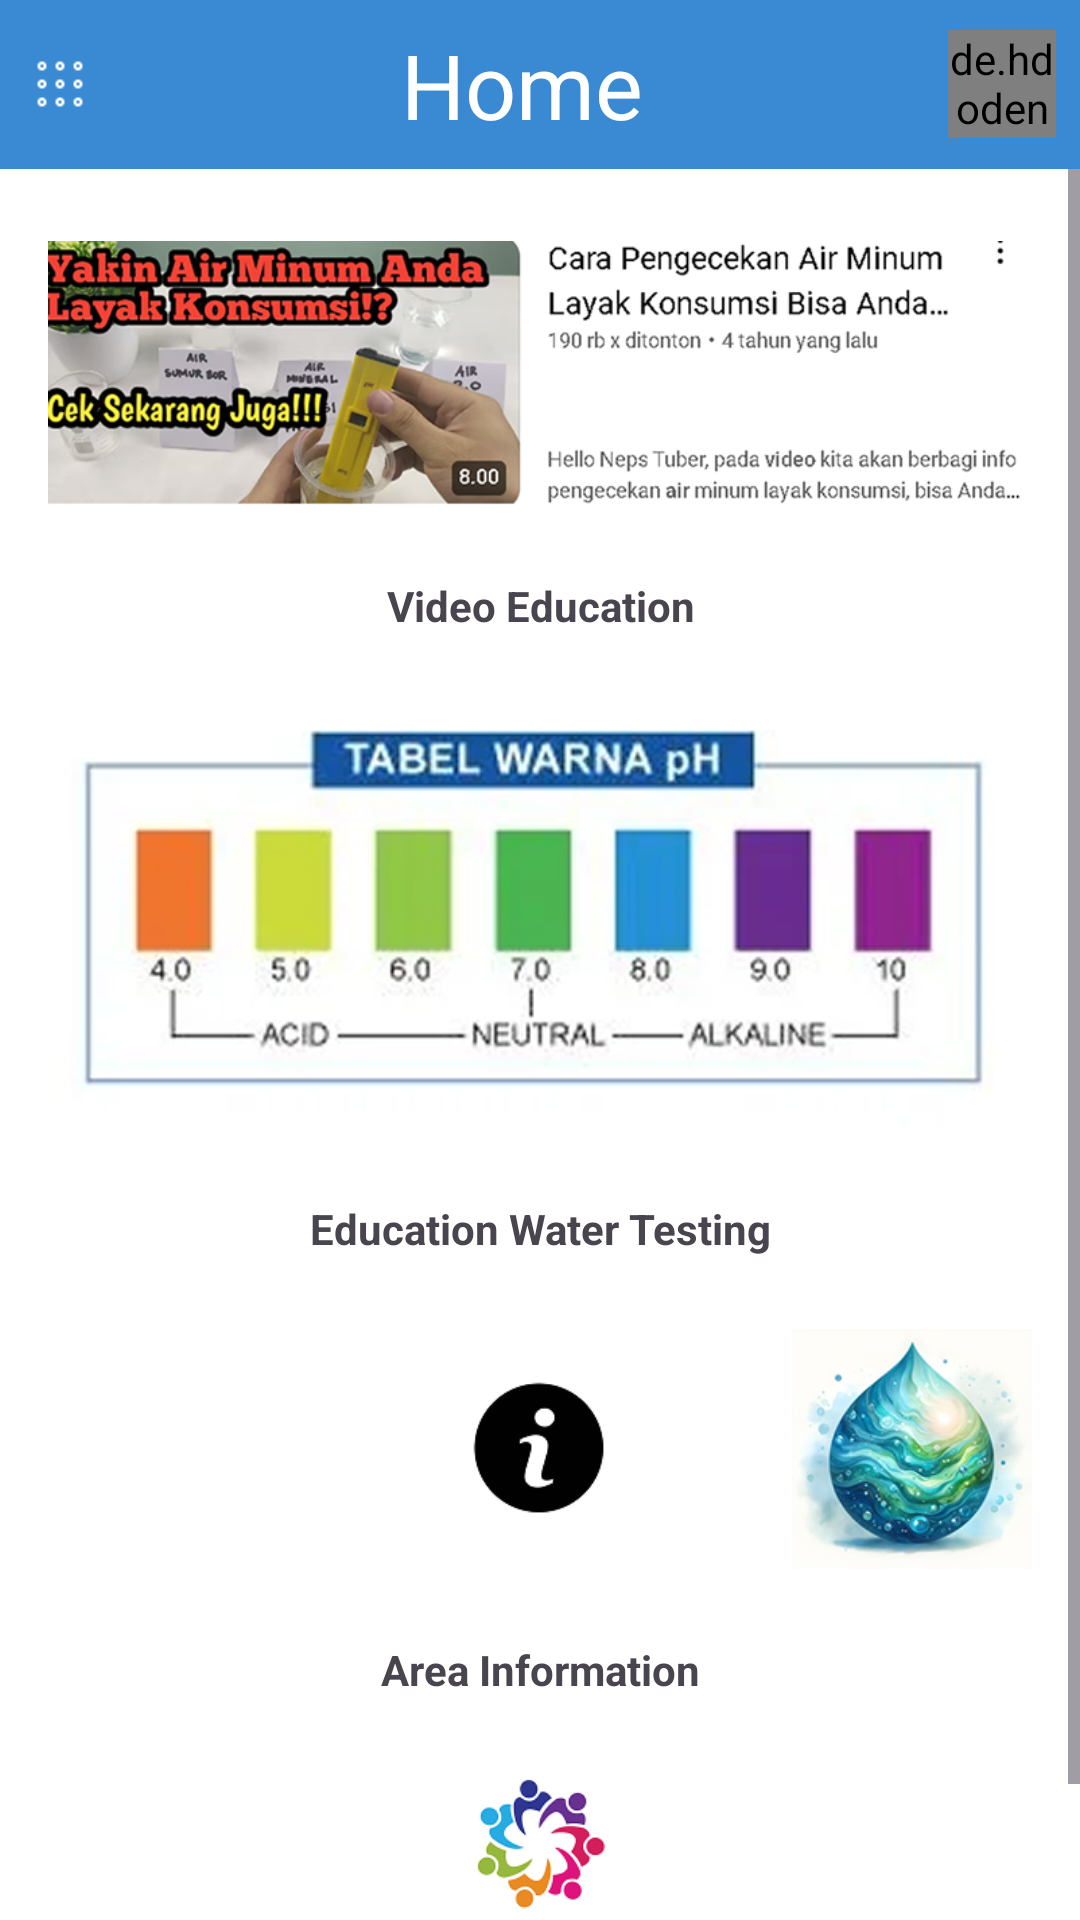

Point at icon controls on the screen. Image size 1080*1920, points as [x,y].
apps: [60,84]
community: [541,1844]
